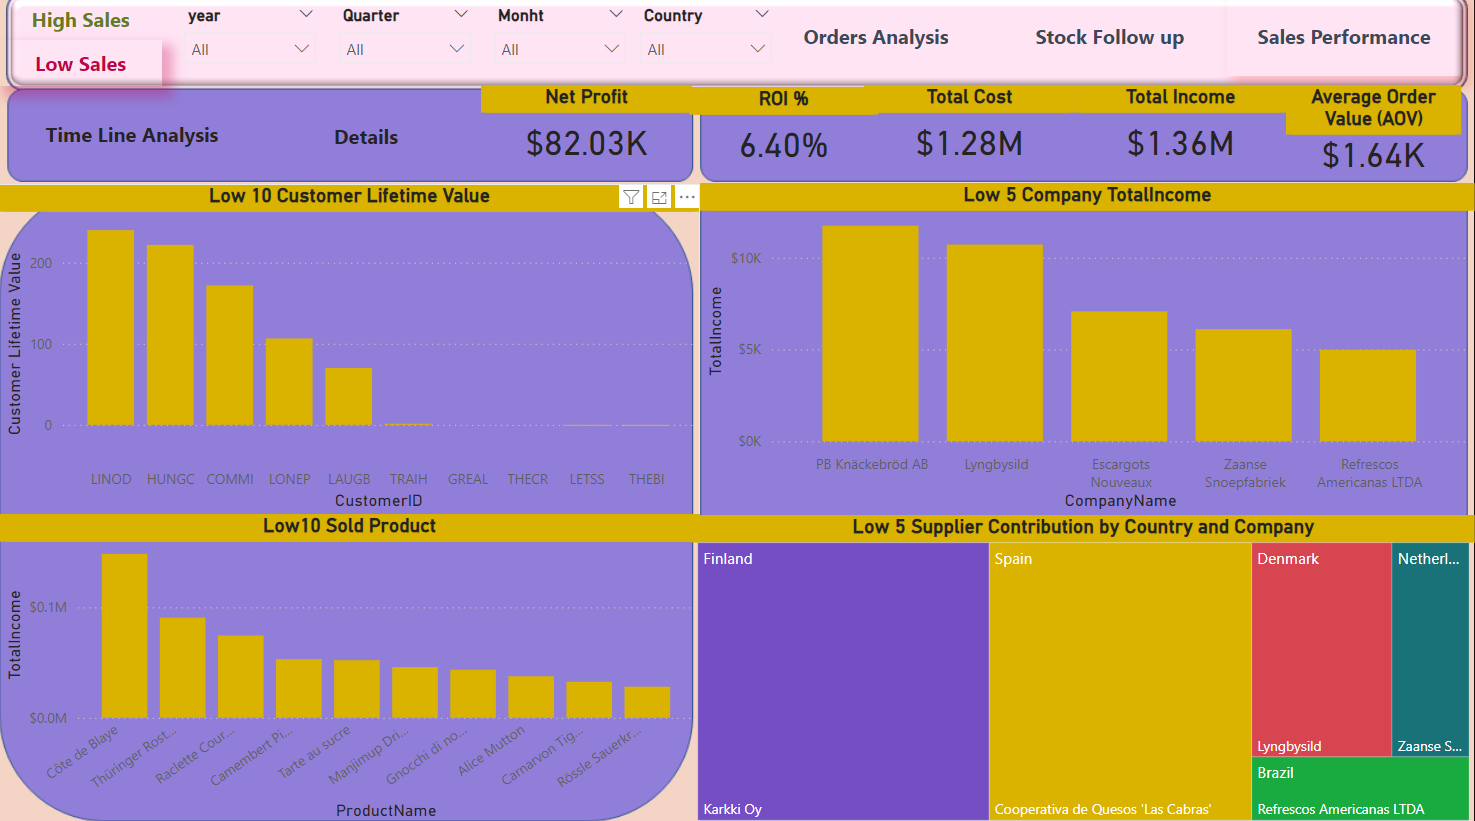

The dashboard page shown, as its layout file describes it:
{"tool":"powerbi","page":{"name":"Sales performance(Low)","canvas":[1280,720],"ordinal":4},"visuals":[{"type":"shape","box":[659.3,0,203,69.4],"z":0},{"type":"shape","box":[862.3,0,203,69.4],"z":1000},{"type":"shape","box":[1065.3,0,203,69.4],"z":2000},{"type":"clusteredColumnChart","title":"Low 10 Customer Lifetime Value","fields":{"Category":["CS Data.CustomerID"],"Y":["CS Data.Customer Lifetime Value"]},"box":[0,163.1,608.1,287.1],"z":3000},{"type":"card","title":"Net Profit","fields":{"Values":["Sum(OrdersDetails.Profit)"]},"box":[418.2,76.8,183.4,77.7],"z":4000},{"type":"lineStackedColumnComboChart","title":"Low10 Sold Product","fields":{"Category":["Products.ProductName"],"Y":["Details.TotalIncome"]},"box":[0,449.3,608.1,269.8],"z":5000},{"type":"shape","box":[0,0,141.4,38.2],"z":6000},{"type":"shape","box":[0,38.2,141.4,39.9],"z":7000},{"type":"treemap","title":"Low 5 Supplier Contribution by Country and Company","fields":{"Group":["Suppliers.Country"],"Details":["Suppliers.CompanyName"],"Values":["Suppliers.Supplier Contribution"]},"box":[608.1,450.2,672.3,269.8],"z":8000},{"type":"card","title":"Average Order Value (AOV)","fields":{"Values":["Details.Average Order Value (AOV)"]},"box":[1116.7,76.8,151.9,79.5],"z":9000},{"type":"lineClusteredColumnComboChart","title":"Low 5  Company TotalIncome","fields":{"Category":["Suppliers.CompanyName"],"Y":["Details.TotalIncome"]},"box":[608.1,162.2,672.3,288],"z":10000},{"type":"slicer","fields":{"Values":["calendar.year"]},"box":[150.9,3.5,134.5,69.4],"z":11000},{"type":"slicer","fields":{"Values":["calendar.Quarter"]},"box":[285.4,3.5,134.5,65.9],"z":12000},{"type":"slicer","fields":{"Values":["calendar.Monht"]},"box":[419.9,3.5,134.5,65.9],"z":13000},{"type":"slicer","fields":{"Values":["CS Data.Country"]},"box":[546.5,3.5,134.5,65.9],"z":14000},{"type":"card","title":"Total Income","fields":{"Values":["Details.TotalIncome"]},"box":[933.4,76.8,183.4,77.7],"z":15000},{"type":"card","title":"ROI %","fields":{"Values":["OrdersDetails.ROI %"]},"box":[599,78.6,164.1,77.7],"z":16000},{"type":"card","title":"Total Cost","fields":{"Values":["OrdersDetails.Total Cost"]},"box":[750,76.8,183.4,77.7],"z":17000},{"type":"shape","box":[13.9,79.8,203,78.9],"z":18000},{"type":"shape","box":[216.9,81.5,203,78.9],"z":19000}]}

Visuals, with their boxes in screenshot pixels (x1, y1, x2, y2), scaled from the page's 1280x720 canvas onto the 1475x821 screenshot:
shape: bbox=(760, 0, 994, 79)
shape: bbox=(994, 0, 1228, 79)
shape: bbox=(1228, 0, 1462, 79)
"Low 10 Customer Lifetime Value" clusteredColumnChart: bbox=(0, 186, 701, 513)
"Net Profit" card: bbox=(482, 88, 693, 176)
"Low10 Sold Product" lineStackedColumnComboChart: bbox=(0, 512, 701, 820)
shape: bbox=(0, 0, 163, 44)
shape: bbox=(0, 44, 163, 89)
"Low 5 Supplier Contribution by Country and Company" treemap: bbox=(701, 513, 1474, 820)
"Average Order Value (AOV)" card: bbox=(1287, 88, 1462, 178)
"Low 5  Company TotalIncome" lineClusteredColumnComboChart: bbox=(701, 185, 1474, 513)
slicer - calendar.year: bbox=(174, 4, 329, 83)
slicer - calendar.Quarter: bbox=(329, 4, 484, 79)
slicer - calendar.Monht: bbox=(484, 4, 639, 79)
slicer - CS Data.Country: bbox=(630, 4, 785, 79)
"Total Income" card: bbox=(1076, 88, 1287, 176)
"ROI %" card: bbox=(690, 90, 879, 178)
"Total Cost" card: bbox=(864, 88, 1076, 176)
shape: bbox=(16, 91, 250, 181)
shape: bbox=(250, 93, 484, 183)
